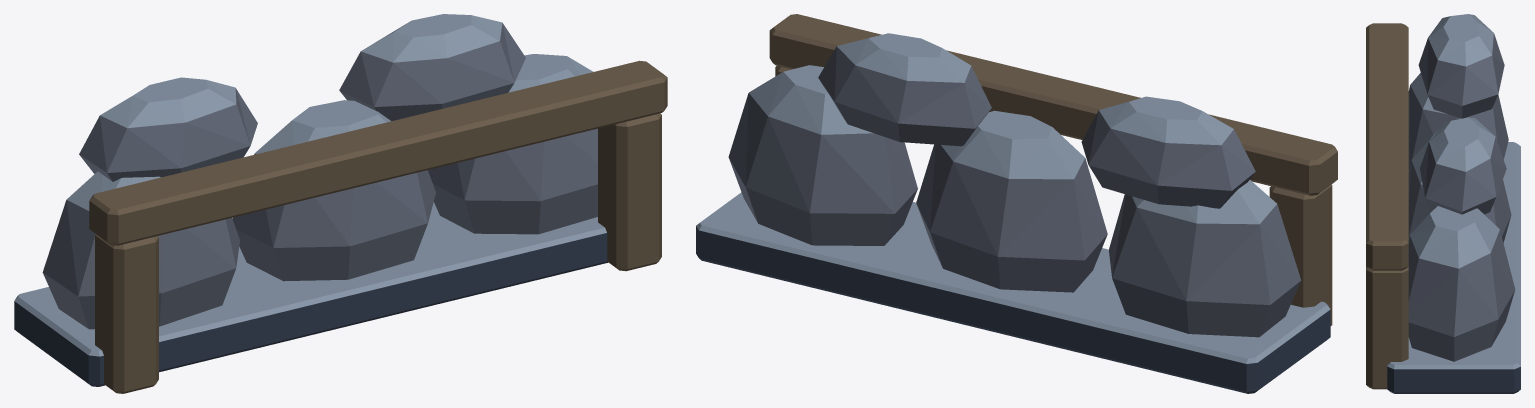
Rendered from wall-broken.glb.
3 views of the same model, side by side, from view 1: azimuth 30°, elevation 25°; view 2: azimuth 150°, elevation 25°; view 3: azimuth 270°, elevation 25° (orthographic). The views are drawn at different scales.
Visible parts, largest first — view 1: wall-broken__body; view 2: wall-broken__body; view 3: wall-broken__body.
Part boxes in pixels (x1=…): wall-broken__body: x1=14, y1=14, x2=667, y2=393; wall-broken__body: x1=696, y1=14, x2=1337, y2=393; wall-broken__body: x1=1366, y1=14, x2=1520, y2=393.
Bounding box in the file's own units: 2.01 × 0.79 × 0.58.
